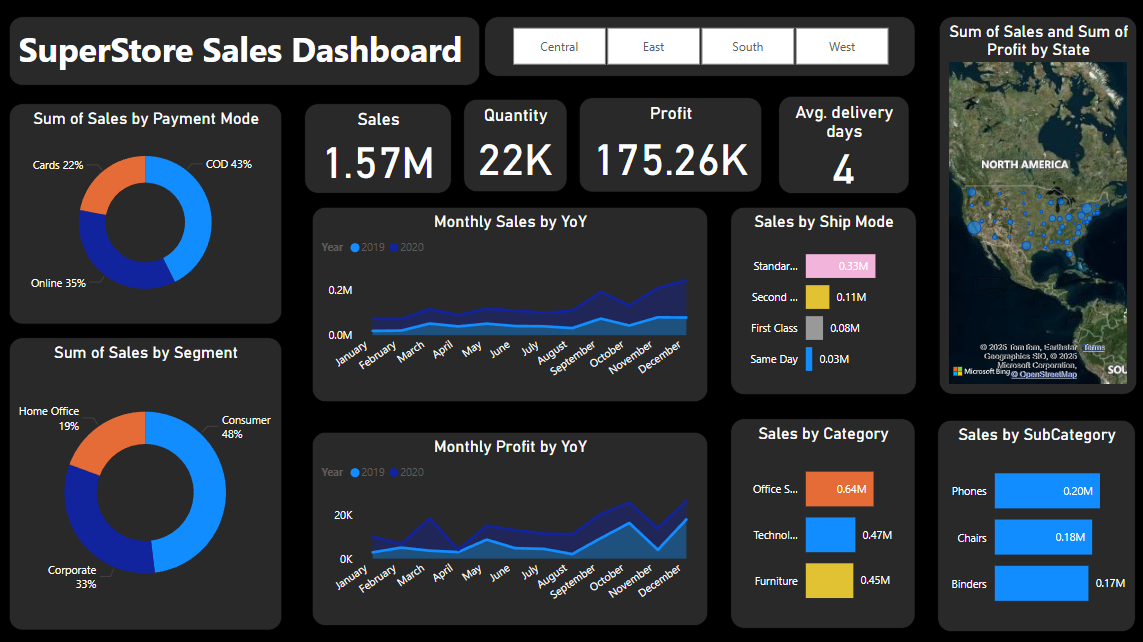

The page's visual inventory and layout, read from the dashboard file:
{"tool":"powerbi","page":{"name":"Page 1","canvas":[1280,720],"ordinal":0},"visuals":[{"type":"clusteredBarChart","title":"Sales by Category","fields":{"Category":["Sheet1.Category"],"Y":["Sum(Sheet1.Sales)"]},"box":[815,465,205,233.3],"z":0},{"type":"clusteredBarChart","title":"Sales by SubCategory","fields":{"Category":["Sheet1.Sub-Category"],"Y":["Sum(Sheet1.Sales)"]},"box":[1045,466.7,220,235],"z":1000},{"type":"clusteredBarChart","title":"Sales by Ship Mode","fields":{"Category":["Sheet1.Ship Mode"],"Y":["Sum(Sheet1.Sales)"]},"box":[815,230,206.7,208.3],"z":2000},{"type":"stackedAreaChart","title":"Monthly Sales by YoY","fields":{"Category":["Sheet1.Order Date.Variation.Date Hierarchy.Month","Sheet1.Order Date.Variation.Date Hierarchy.Day"],"Y":["Sum(Sheet1.Sales)"],"Series":["Sheet1.Order Date.Variation.Date Hierarchy.Year"]},"box":[350,230,440,216.7],"z":3000},{"type":"stackedAreaChart","title":"Monthly Profit by YoY","fields":{"Category":["Sheet1.Order Date.Variation.Date Hierarchy.Month","Sheet1.Order Date.Variation.Date Hierarchy.Day","Sheet1.Profit"],"Series":["Sheet1.Order Date.Variation.Date Hierarchy.Year"],"Y":["Sum(Sheet1.Profit)"]},"box":[350,480,440,215],"z":4000},{"type":"map","fields":{"Category":["Sheet1.State"],"Size":["Sum(Sheet1.Sales)"]},"box":[1046,18,220,420],"z":5000},{"type":"donutChart","fields":{"Category":["Sheet1.Payment Mode","Sheet1.Segment"],"Y":["Sum(Sheet1.Sales)"]},"box":[13.3,115,303.3,245],"z":7000},{"type":"donutChart","fields":{"Category":["Sheet1.Segment"],"Y":["Sum(Sheet1.Sales)"]},"box":[13.3,375,303.3,325],"z":8000},{"type":"slicer","fields":{"Values":["Sheet1.Region"]},"box":[541.7,18.3,478.3,66.7],"z":9000},{"type":"textbox","box":[13.3,18.3,523.3,76.7],"z":10000},{"type":"card","title":"Sales","fields":{"Values":["Sum(Sheet1.Sales)"]},"box":[341.7,115,163.3,100],"z":11000},{"type":"card","title":"Quantity","fields":{"Values":["Sum(Sheet1.Quantity)"]},"box":[518.3,110,115,103.3],"z":12000},{"type":"card","title":"Profit","fields":{"Values":["Sum(Sheet1.Profit)"]},"box":[646.7,108.3,203.3,105],"z":13000},{"type":"card","title":"Avg. delivery days","fields":{"Values":["Avg(Sheet1.AvgDelivery)"]},"box":[868.3,106.7,145,108.3],"z":14000}]}

Visuals, with their boxes in screenshot pixels (x1, y1, x2, y2), scaled from the page's 1280x720 canvas onto the 1143x642 screenshot:
"Sales by Category" clusteredBarChart: [left=728, top=415, right=911, bottom=623]
"Sales by SubCategory" clusteredBarChart: [left=933, top=416, right=1130, bottom=626]
"Sales by Ship Mode" clusteredBarChart: [left=728, top=205, right=912, bottom=391]
"Monthly Sales by YoY" stackedAreaChart: [left=313, top=205, right=705, bottom=398]
"Monthly Profit by YoY" stackedAreaChart: [left=313, top=428, right=705, bottom=620]
map - Sheet1.State x Sum(Sheet1.Sales): [left=934, top=16, right=1130, bottom=391]
donutChart - Sheet1.Payment Mode x Sheet1.Segment: [left=12, top=103, right=283, bottom=321]
donutChart - Sheet1.Segment x Sum(Sheet1.Sales): [left=12, top=334, right=283, bottom=624]
slicer - Sheet1.Region: [left=484, top=16, right=911, bottom=76]
textbox: [left=12, top=16, right=479, bottom=85]
"Sales" card: [left=305, top=103, right=451, bottom=192]
"Quantity" card: [left=463, top=98, right=566, bottom=190]
"Profit" card: [left=577, top=97, right=759, bottom=190]
"Avg. delivery days" card: [left=775, top=95, right=905, bottom=192]
